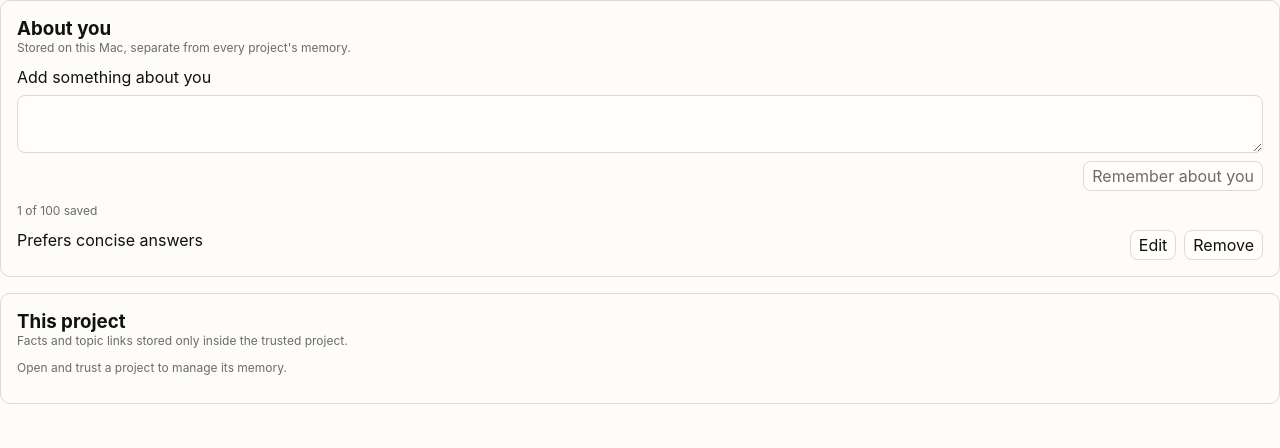
Test: LibrarySettingsPanel › surfaces in-band mutation failures and keeps the current entry visible
Expected: the text "Prefers concise answers" is shown, [17, 230, 203, 250]
Type "One more" into the text box labelled "Add something about you".
click(640, 124); type("One more")  # box [17, 95, 1263, 153]
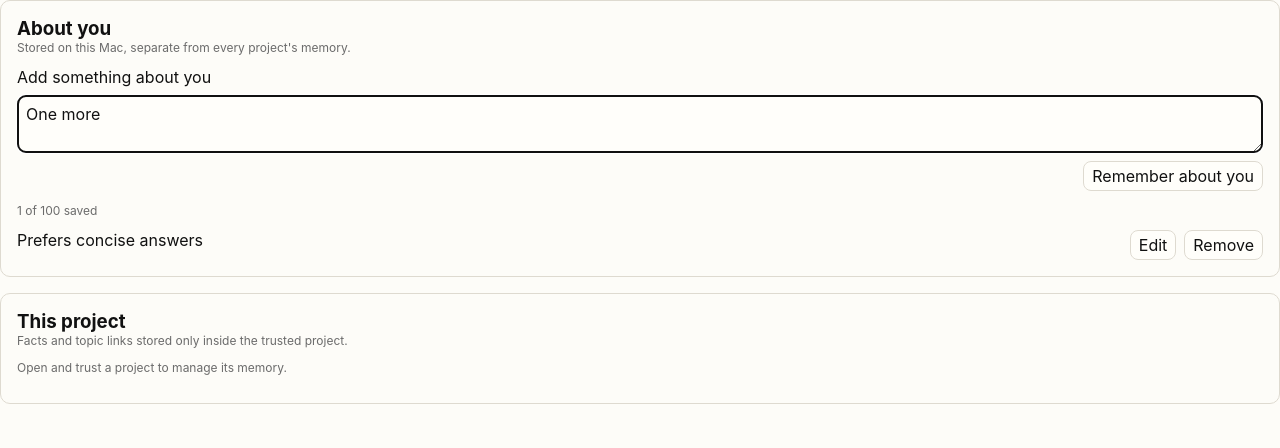
Click the button "Remember about you".
click(1173, 176)  # box [1083, 161, 1263, 191]
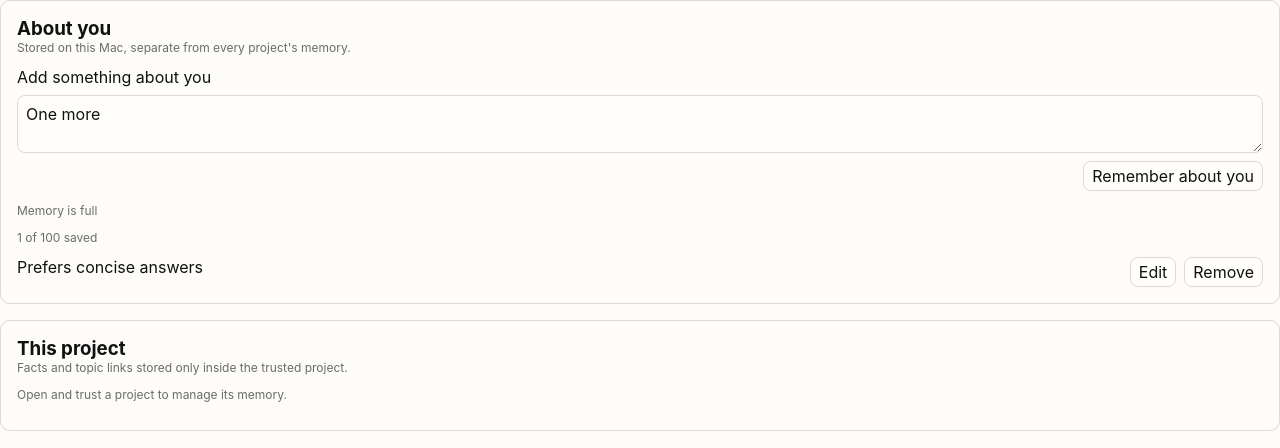
Expected: the text "Prefers concise answers" is shown, [17, 257, 203, 277]
Result: the message reads "Memory is full" at [17, 203, 97, 218]
